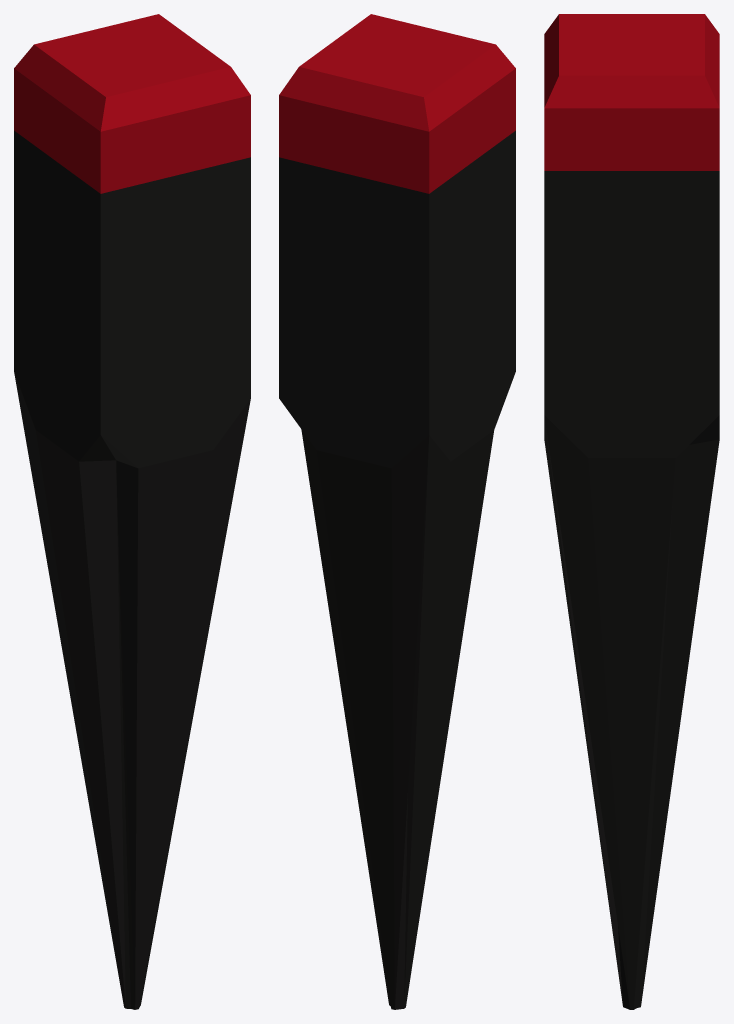
The model's file is kui_shade.obj.
3 renders of one model, left to right at view 1: azimuth 30°, elevation 25°; view 2: azimuth 150°, elevation 25°; view 3: azimuth 270°, elevation 25°, orthographic.
Parts seen in each view (by area): view 1: obj1; view 2: obj1; view 3: obj1.
Part boxes in pixels (left/top/right/bottom): obj1: left=14, top=14, right=250, bottom=1009; obj1: left=279, top=14, right=515, bottom=1009; obj1: left=544, top=14, right=719, bottom=1009.
Size of the model in its own units: 0.905 by 5.47 by 0.905.
